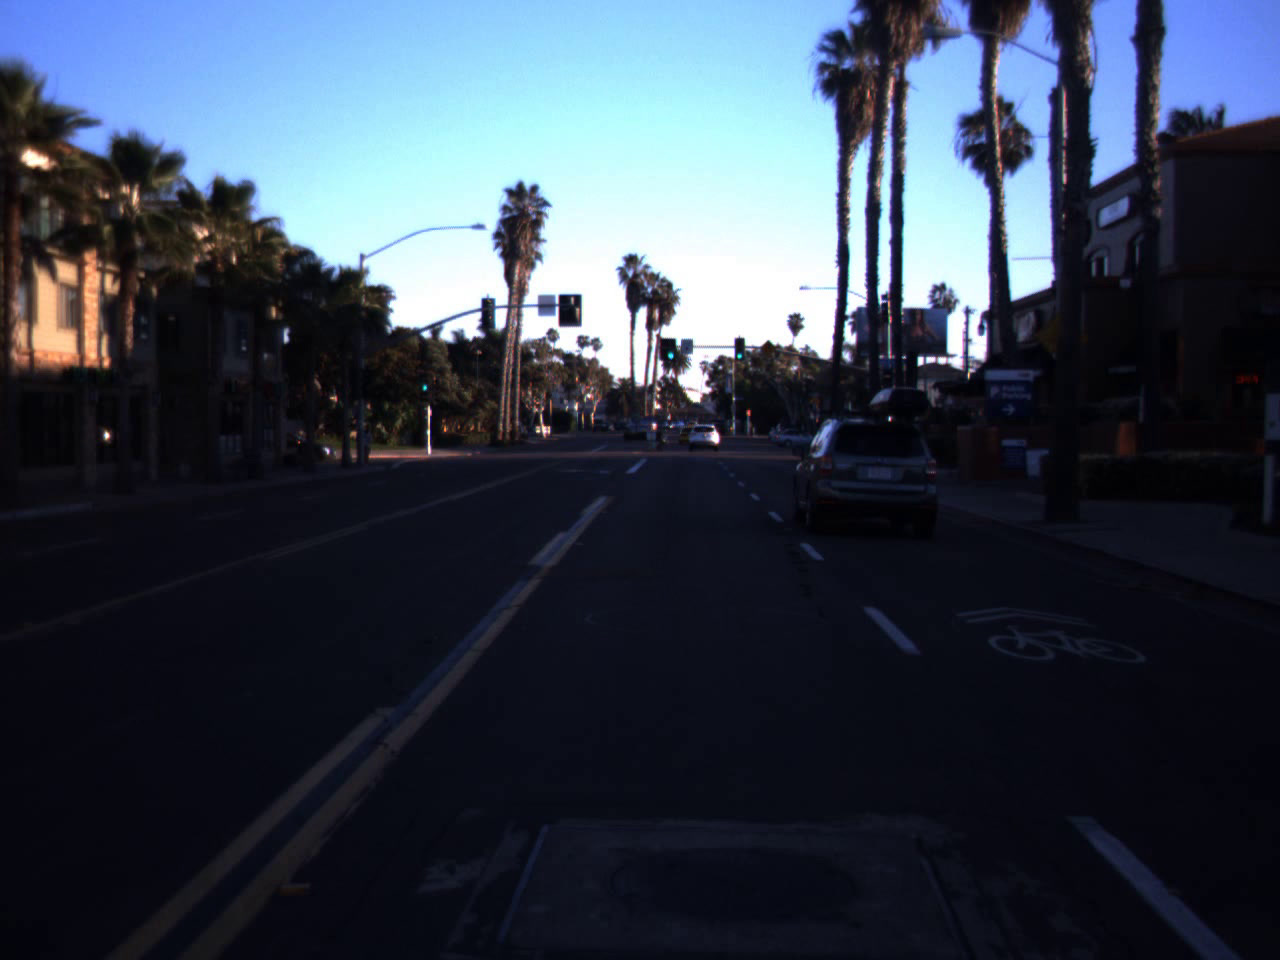go: (665, 340, 677, 360), (734, 340, 746, 360)
